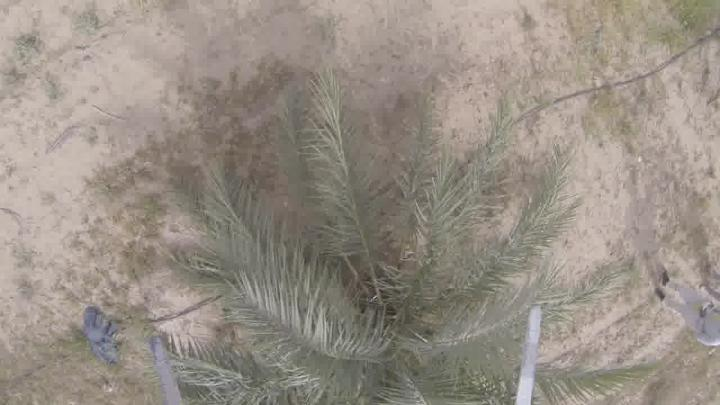Date-Palm-Crown: (260, 189, 522, 404)
